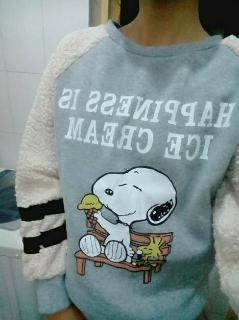long sleeve top: (14, 18, 239, 319)
